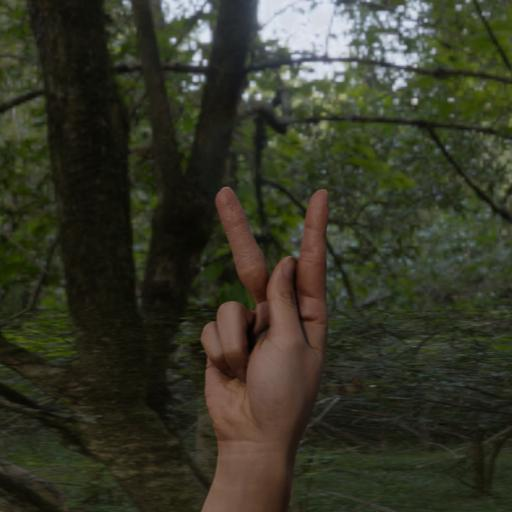K: (181, 183, 342, 464)
